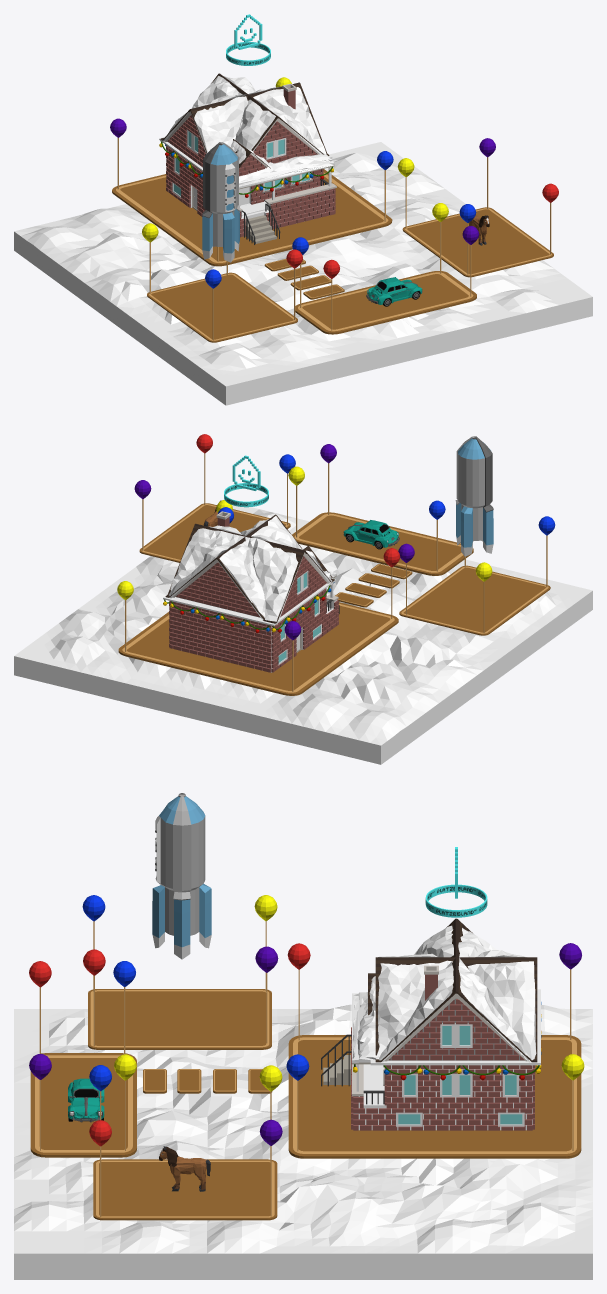
The picture shows the model from 3 angles, top to bottom: view 1: azimuth 30°, elevation 25°; view 2: azimuth 150°, elevation 25°; view 3: azimuth 270°, elevation 25°; orthographic projection. The views are drawn at different scales.
Visible parts, largest first — view 1: Cube.013, Cube.1419, OBJRANDOM_ROCKETSHIP, VEHICLES_VOLKSWAGEN, TYPE_PREMIUM; view 2: Cube.013, Cube.1419, OBJRANDOM_ROCKETSHIP, VEHICLES_VOLKSWAGEN, TYPE_PREMIUM; view 3: Cube.013, Cube.1419, OBJRANDOM_ROCKETSHIP, VEHICLES_VOLKSWAGEN, TYPE_PREMIUM, ANIMAL_CABALLO.
Boxes of the visible parts, left/top/right/bottom form: Cube.013: left=14, top=77, right=592, bottom=405; Cube.1419: left=159, top=73, right=336, bottom=244; OBJRANDOM_ROCKETSHIP: left=202, top=142, right=239, bottom=262; VEHICLES_VOLKSWAGEN: left=366, top=277, right=422, bottom=306; TYPE_PREMIUM: left=226, top=14, right=270, bottom=65; Cube.013: left=14, top=434, right=592, bottom=764; Cube.1419: left=163, top=511, right=339, bottom=672; OBJRANDOM_ROCKETSHIP: left=455, top=436, right=493, bottom=556; VEHICLES_VOLKSWAGEN: left=343, top=520, right=399, bottom=549; TYPE_PREMIUM: left=224, top=455, right=268, bottom=507; Cube.013: left=14, top=895, right=592, bottom=1279; Cube.1419: left=321, top=918, right=541, bottom=1130; OBJRANDOM_ROCKETSHIP: left=152, top=793, right=211, bottom=959; VEHICLES_VOLKSWAGEN: left=68, top=1078, right=104, bottom=1122; TYPE_PREMIUM: left=425, top=847, right=487, bottom=917; ANIMAL_CABALLO: left=159, top=1146, right=210, bottom=1191.
Size of the model in its own units: 4000 by 2466 by 4000.
45 materials, 3 textured.
